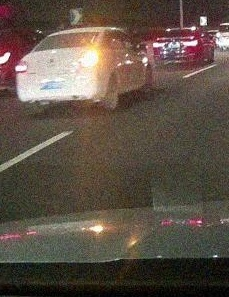L_light: (15, 60, 27, 73), (153, 42, 166, 48)
R_light: (80, 53, 99, 66), (182, 40, 198, 46)
T_light: (64, 34, 76, 37), (176, 30, 183, 32)
night-no: (152, 29, 200, 66)
night-right: (15, 30, 103, 113)
